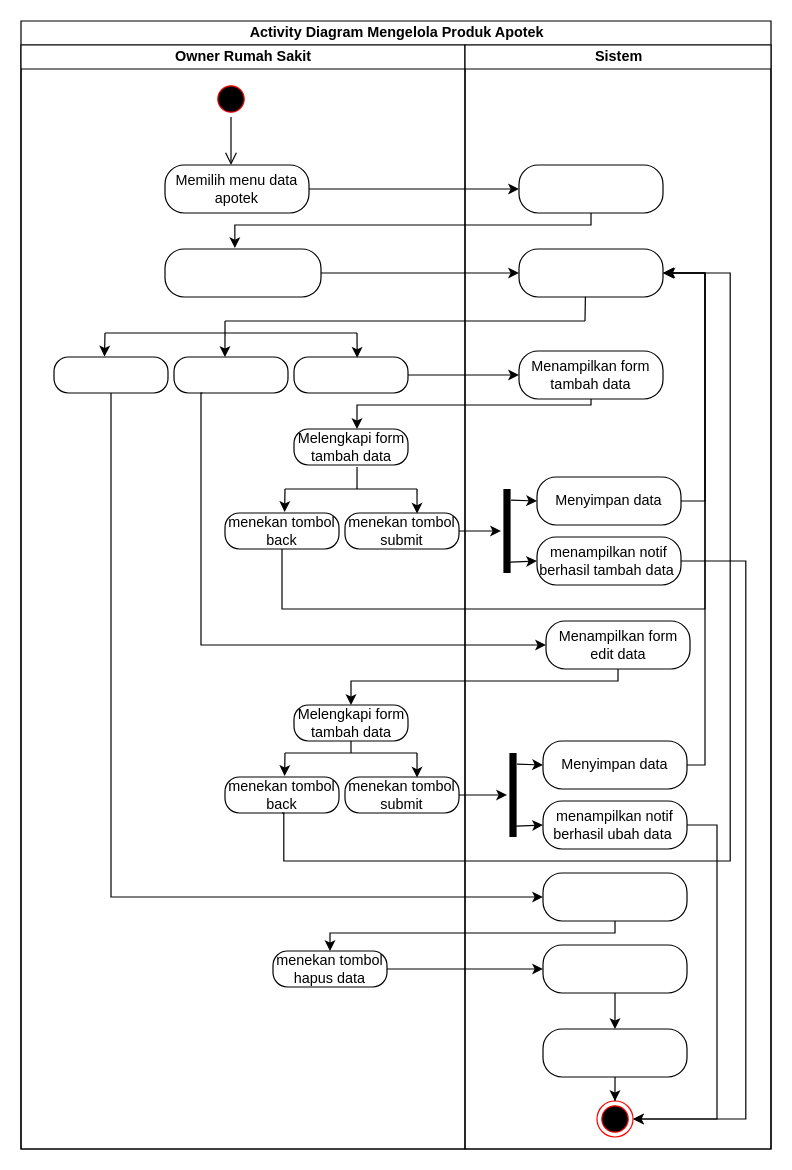
The diagram is 792 pixels wide and 1170 high, and some of its shapes have lost their labels. The centre of each missing label's shape, as x and y in pixels:
"Menampilkan data apotek" goes at point 590,188.
"Menampilkan data produk" goes at point 590,272.
"menampilkan notif berhasil hapus data" goes at point 614,1052.
"Menampilkan tombol hapus data" goes at point 614,896.
"menekan checkbox" goes at point 110,374.
"menekan tombol edit" goes at point 230,374.
"Menekan tombol lihat produk pada apotek" goes at point 242,272.
"menekan tombol tambah" goes at point 350,374.
"menghapus data" goes at point 614,968.
